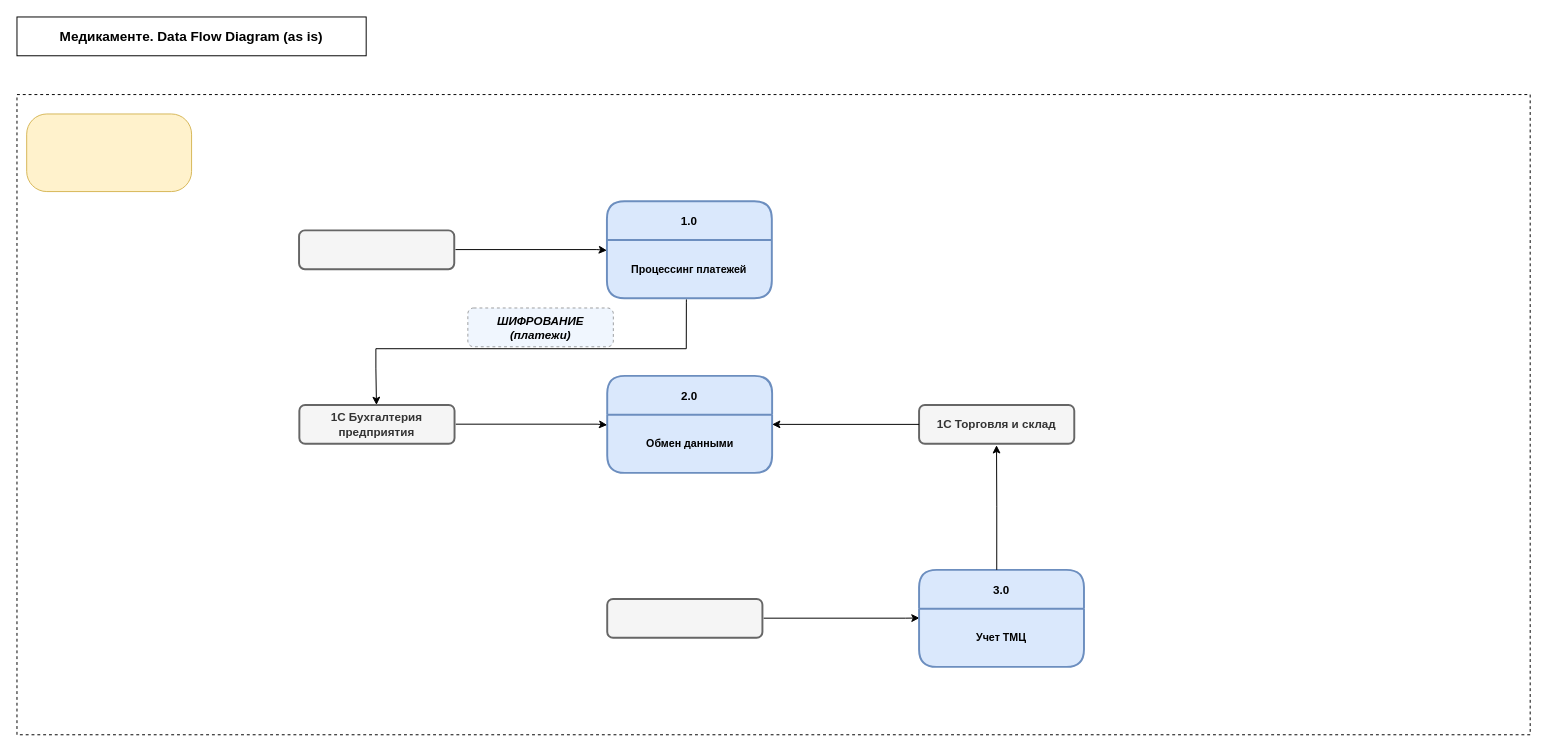
Image size: 1547x752. Some labels were removed from this diagram. The shapes that lost their labels are listed below. From the top down, each one's centre as x and y in pixels, then its label:
the point at 109,152: DFD-3 Бухгалтерский учет и ТМЦ (as-is)
the point at 376,249: Сотрудник бухгалтерии
the point at 684,618: Сотрудник склада
